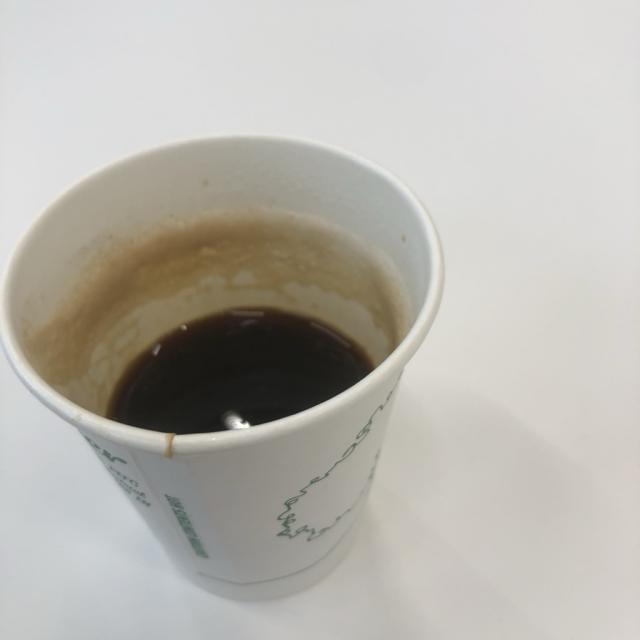espresso: (103, 299, 373, 431)
